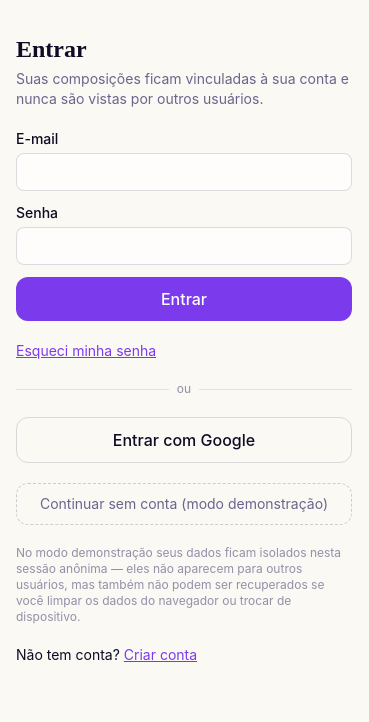
Login — Google popup sign-in › never leaves a blank screen on a popup error — the form and a retry panel both render
The image size is (369, 722).
Click the button "Entrar com Google".
click(184, 440)  # box [16,417,352,463]
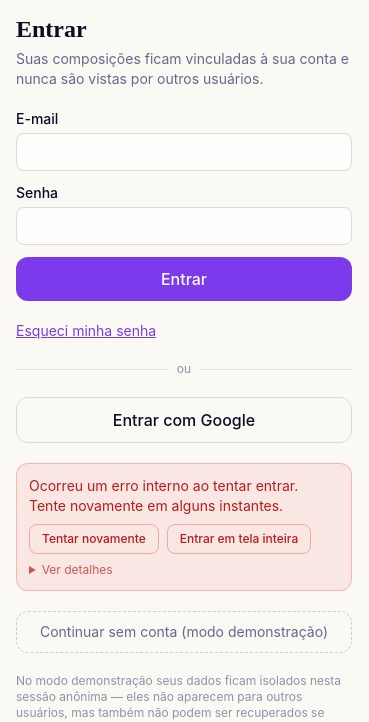
expect the heading "Entrar" is shown: met, box [16,16,87,42]
expect the message is shown: met, box [16,463,352,591]
